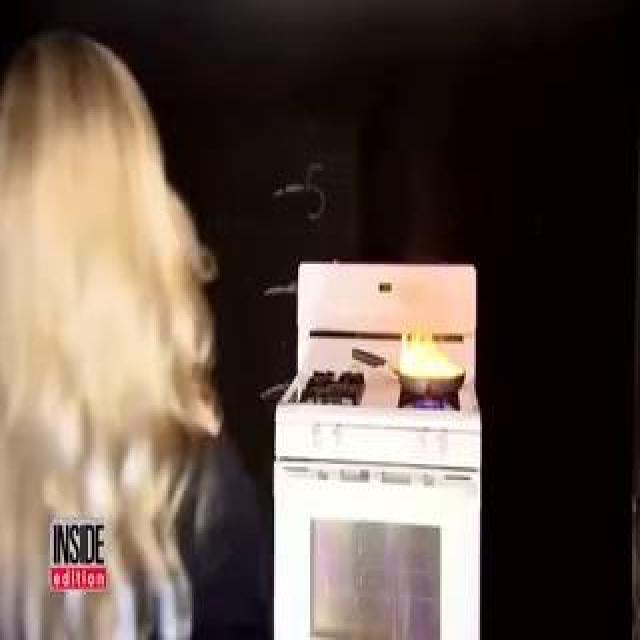Fire: (72, 72, 430, 350)
